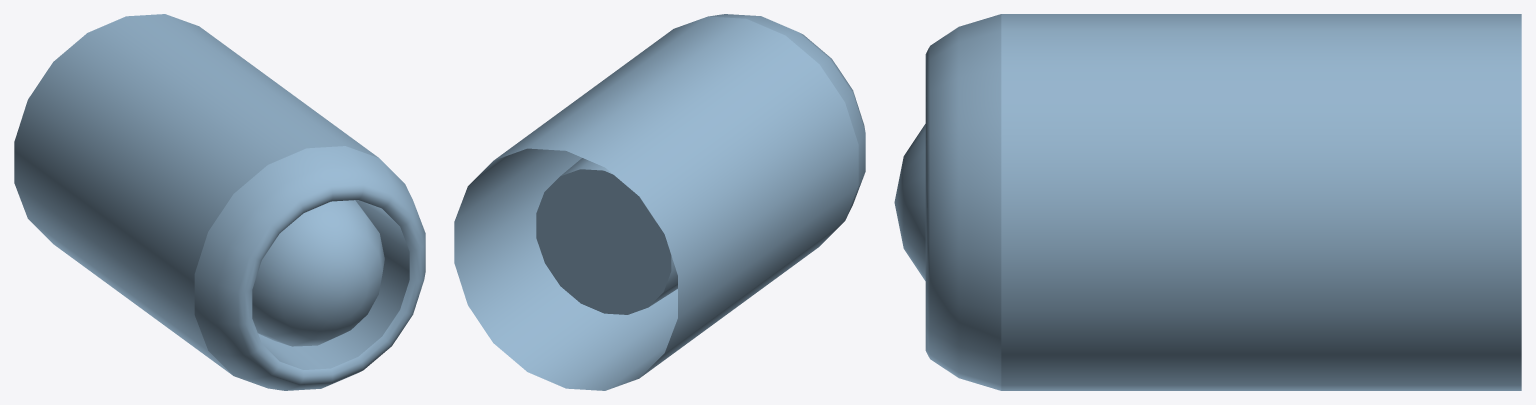
Rendered from engine 1 front part.FBX.
The picture shows the model from 3 angles, left to right: view 1: azimuth 30°, elevation 25°; view 2: azimuth 150°, elevation 25°; view 3: azimuth 270°, elevation 25°; orthographic projection. The views are drawn at different scales.
Parts seen in each view (by area): view 1: Object28; view 2: Object28; view 3: Object28.
Part boxes in pixels (x1,y1,x2,y2): Object28: (14,14,425,390); Object28: (454,14,865,390); Object28: (894,14,1521,390).
Bounding box in the file's own units: 0.0311 × 0.0524 × 0.0316.
